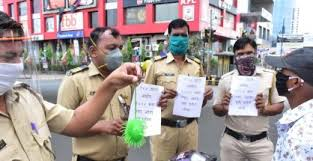mask: (0, 18, 46, 107), (88, 27, 127, 76), (273, 59, 305, 111), (231, 37, 256, 77), (166, 19, 191, 58)
